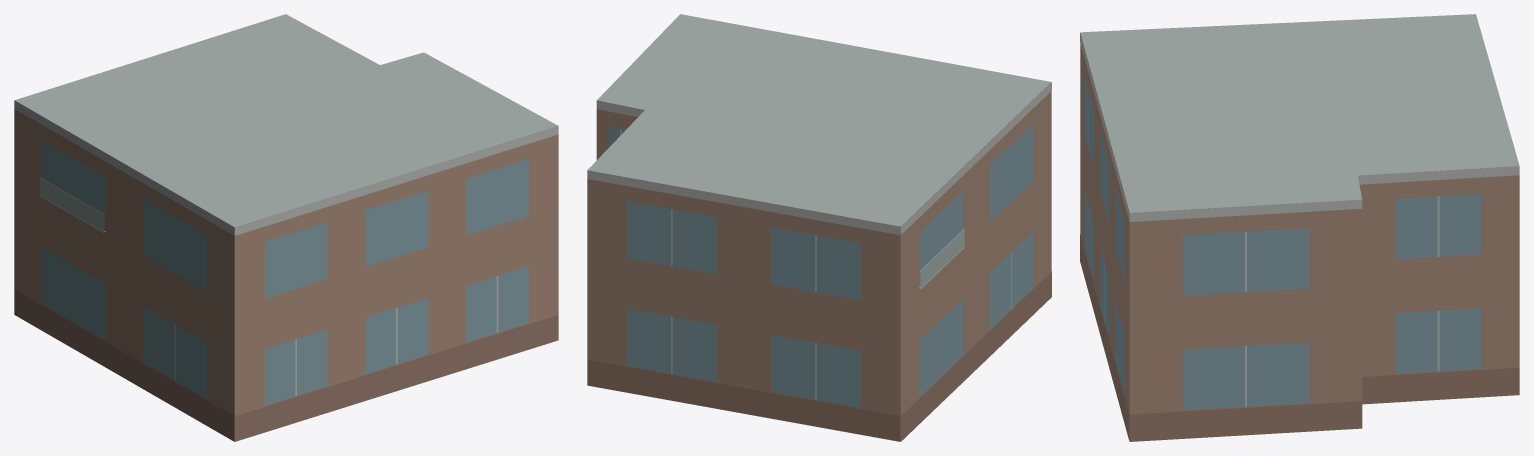
The model's file is survey-upis-32571670.glb.
3 views of the same model, side by side, from view 1: azimuth 30°, elevation 25°; view 2: azimuth 150°, elevation 25°; view 3: azimuth 270°, elevation 25° (orthographic). The views are drawn at different scales.
Parts seen in each view (by area): view 1: survey-upis-32571670.tmp; view 2: survey-upis-32571670.tmp; view 3: survey-upis-32571670.tmp.
Boxes of the visible parts, <box> form: survey-upis-32571670.tmp: <box>14,14,558,441</box>; survey-upis-32571670.tmp: <box>587,14,1051,441</box>; survey-upis-32571670.tmp: <box>1080,14,1519,441</box>.
Size of the model in its own units: 11.38 by 6.1 by 10.63.
